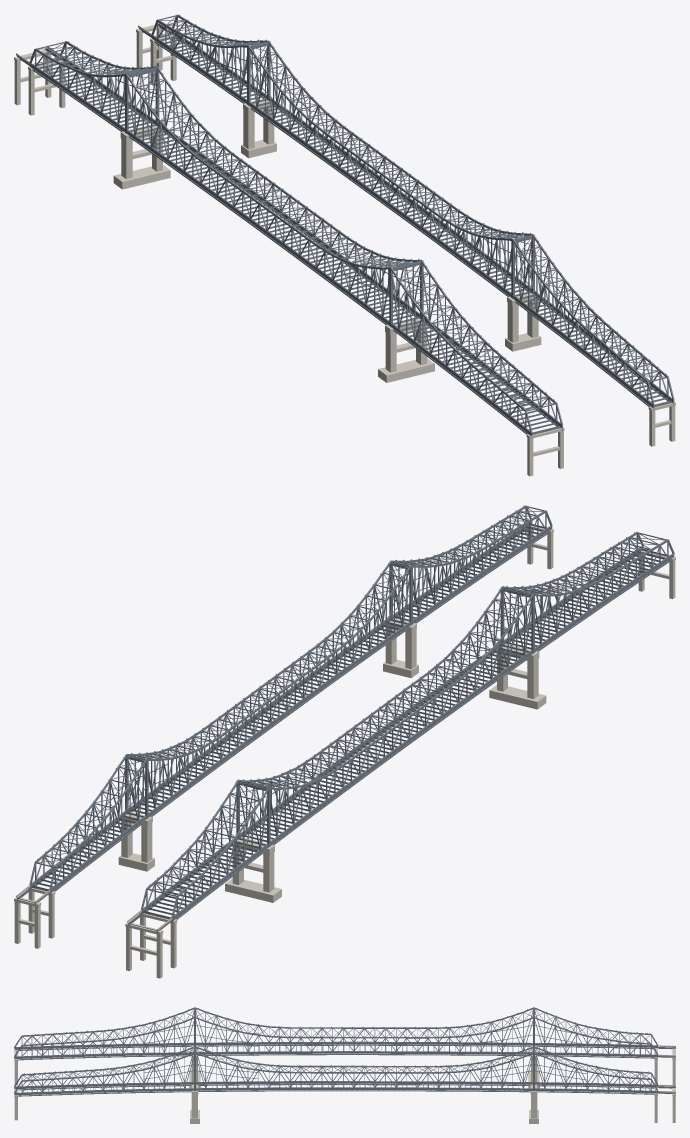
The model's file is nola-crescent-city-connection.detail.glb.
3 views of the same model, one above another, from view 1: azimuth 30°, elevation 25°; view 2: azimuth 150°, elevation 25°; view 3: azimuth 270°, elevation 25° (orthographic). The views are drawn at different scales.
Visible parts, largest first — view 1: Crescent City Connection; view 2: Crescent City Connection; view 3: Crescent City Connection.
Boxes of the visible parts, <box> form: Crescent City Connection: <box>14,14,675,476</box>; Crescent City Connection: <box>14,505,675,978</box>; Crescent City Connection: <box>14,1007,675,1123</box>.
Size of the model in its own units: 163 by 110 by 937.
